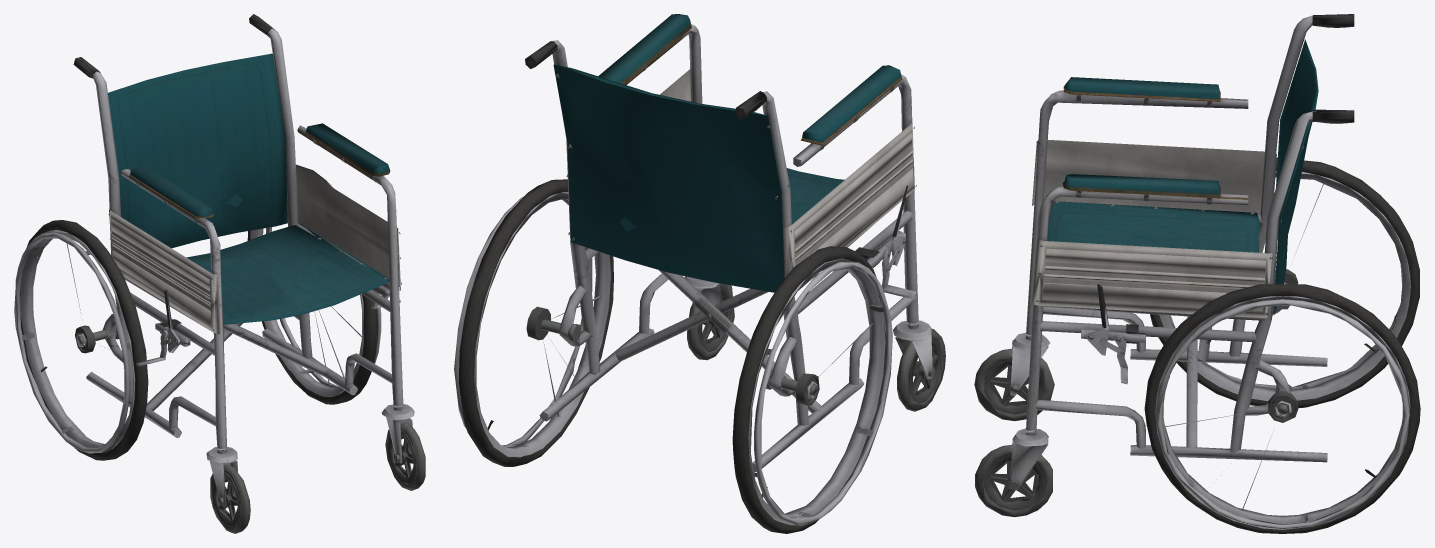
Rendered from wheelchair_01.glb.
3 renders of one model, left to right at view 1: azimuth 30°, elevation 25°; view 2: azimuth 150°, elevation 25°; view 3: azimuth 270°, elevation 25°, orthographic. The views are drawn at different scales.
Parts seen in each view (by area): view 1: wheelchair_01; view 2: wheelchair_01; view 3: wheelchair_01.
Boxes of the visible parts, x1=… form: wheelchair_01: x1=14, y1=14, x2=425, y2=533; wheelchair_01: x1=454, y1=14, x2=945, y2=533; wheelchair_01: x1=974, y1=14, x2=1420, y2=533.
Bounding box in the file's own units: 0.8241 × 1.1 × 1.09.
1 material, 1 textured.
